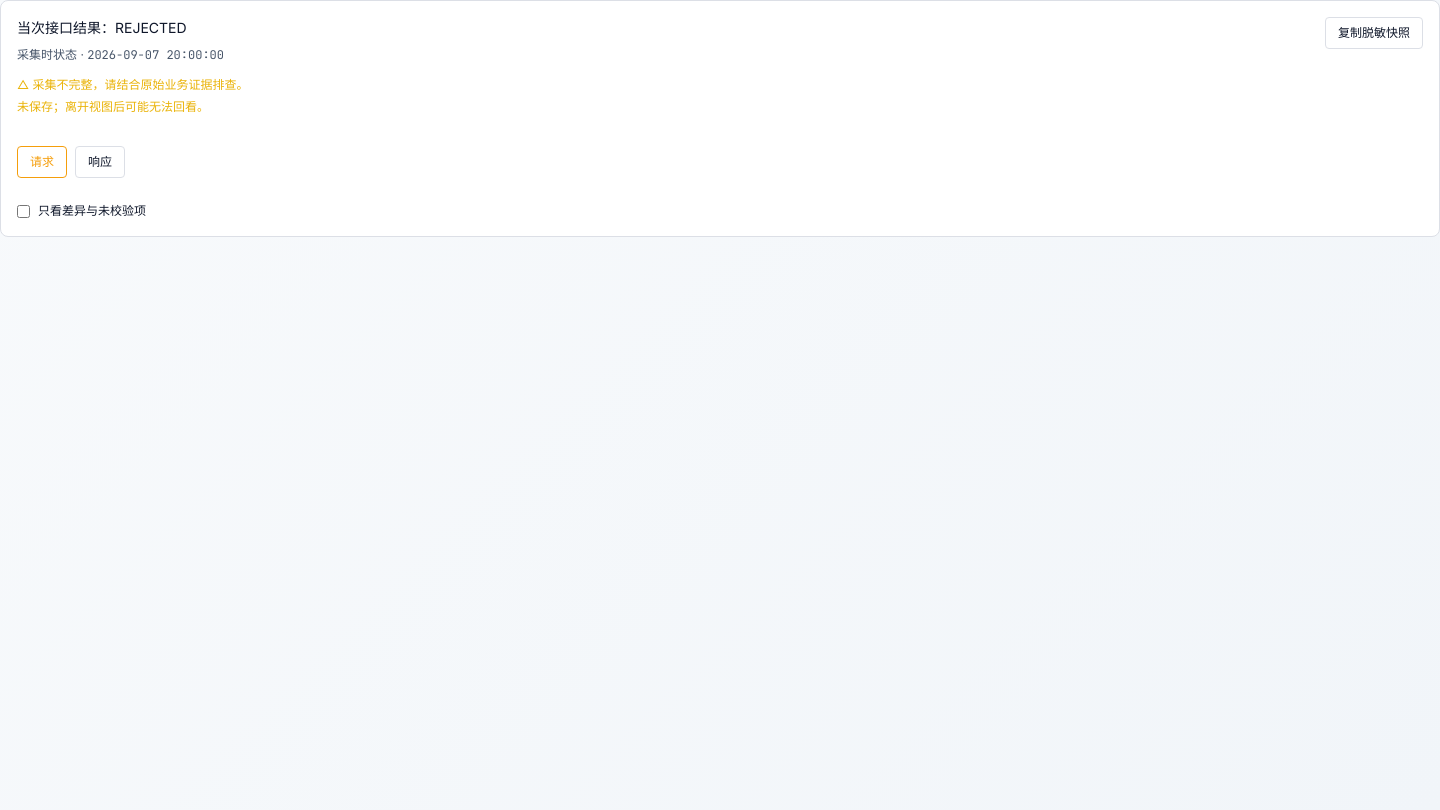
it: WMS 当次交互详情 › 复制已脱敏内容和完整性标记，并显示复制失败
The image size is (1440, 810).
Click the button "复制脱敏快照": coordinates (1374, 33) [1325, 17, 1423, 49]
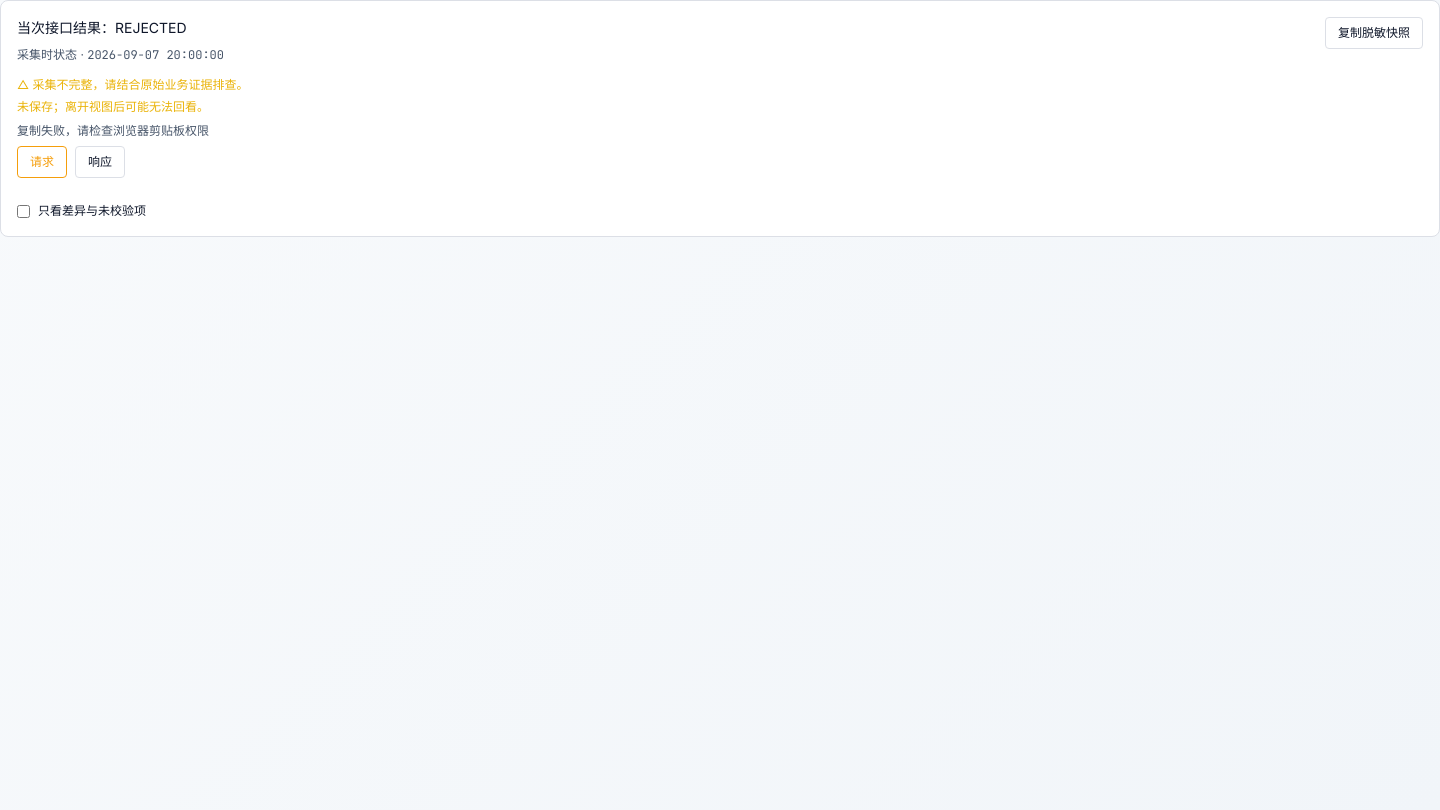
Expected: the message "复制失败，请检查浏览器剪贴板权限" is shown, [17, 123, 209, 138]
Click the button "复制脱敏快照": coordinates (1374, 33) [1325, 17, 1423, 49]
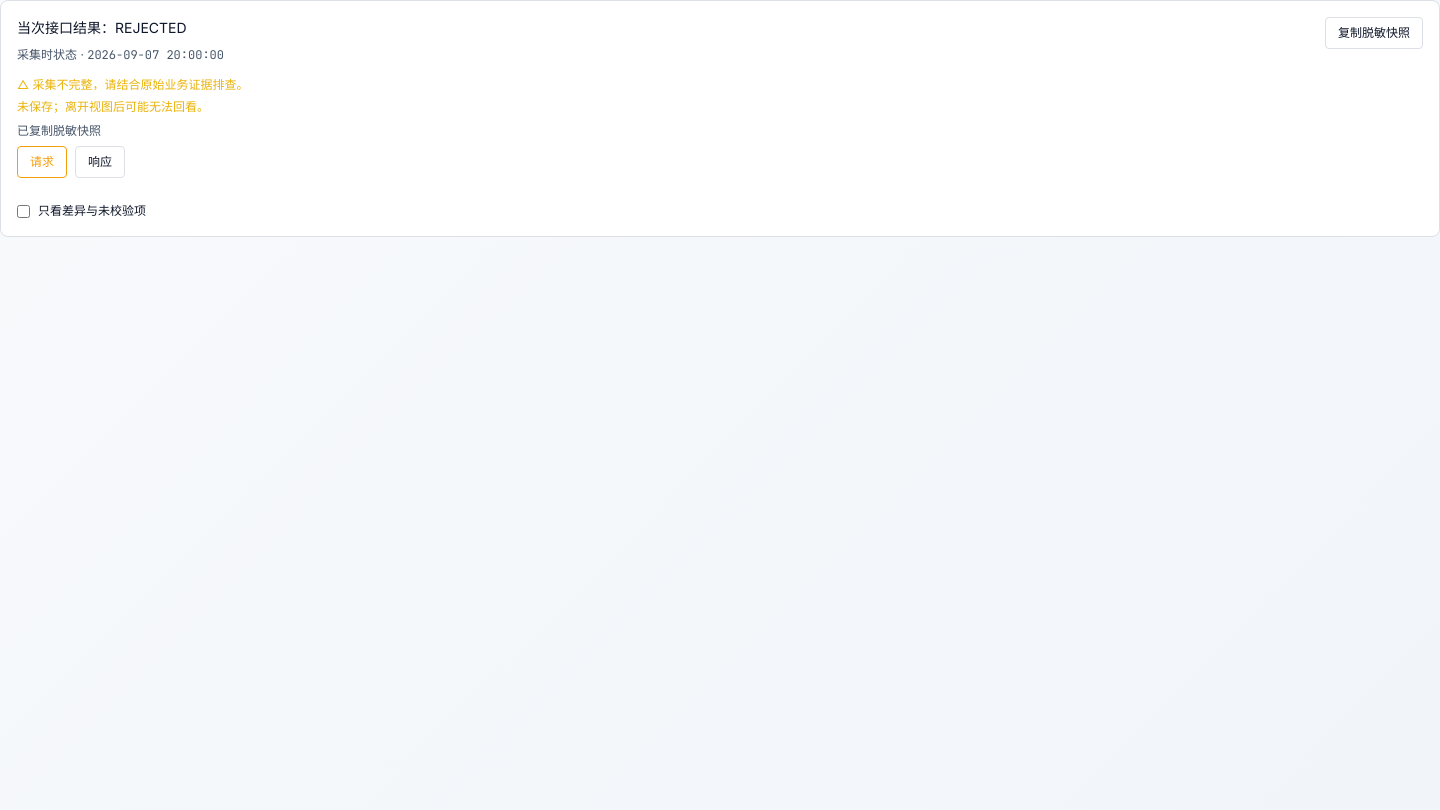
Expected: the message "已复制脱敏快照" is shown, [17, 123, 101, 138]
